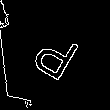P_SW: (22, 25, 80, 88)
